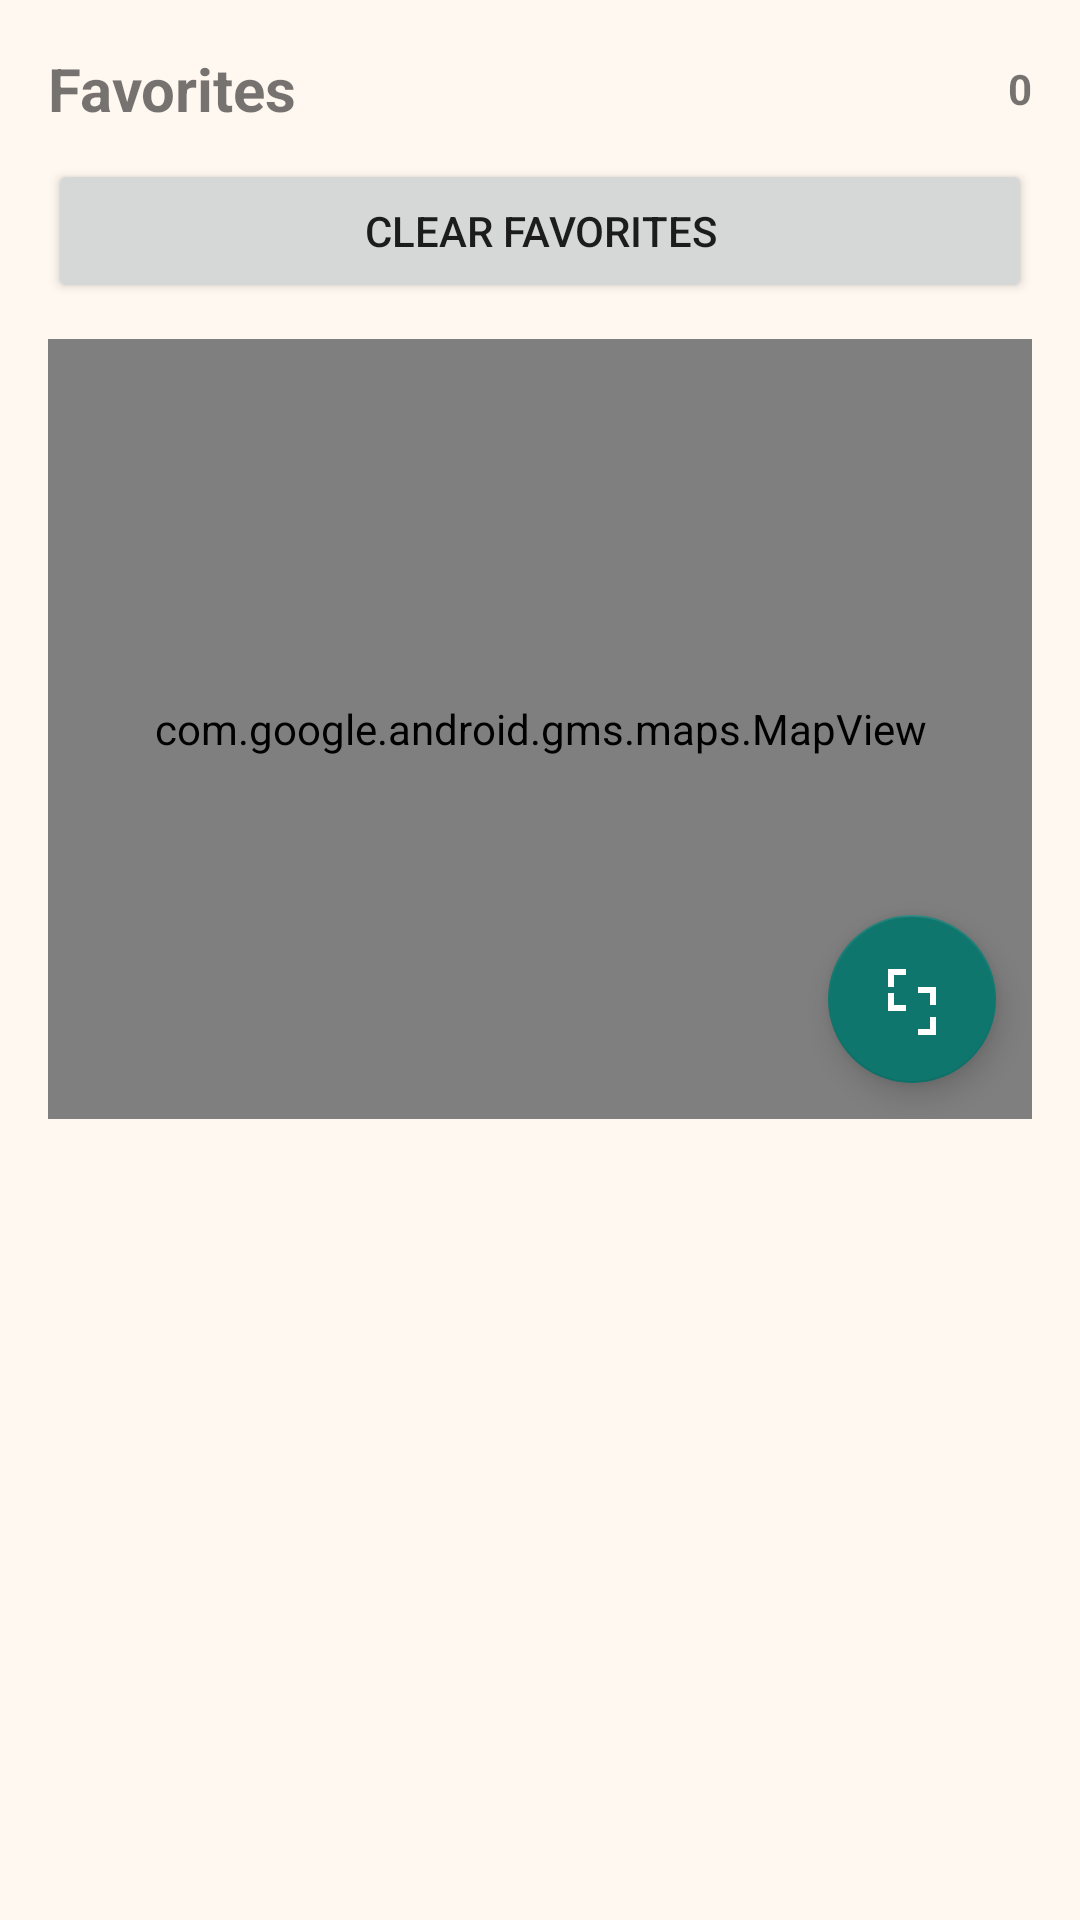

Where icons sit on this 1080 × 1920 app screen, as {"x1": x1, "y1": y1, "x2": x2, "y2": y2}:
Expand map: {"x1": 828, "y1": 915, "x2": 996, "y2": 1083}
